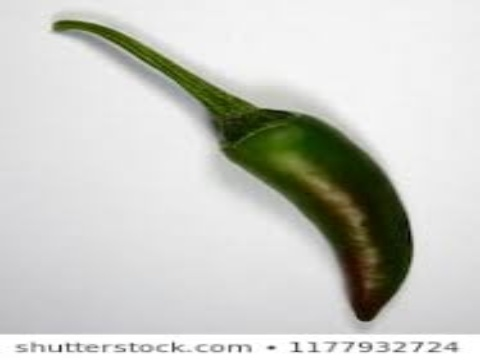Chilli: (149, 46, 460, 328)
